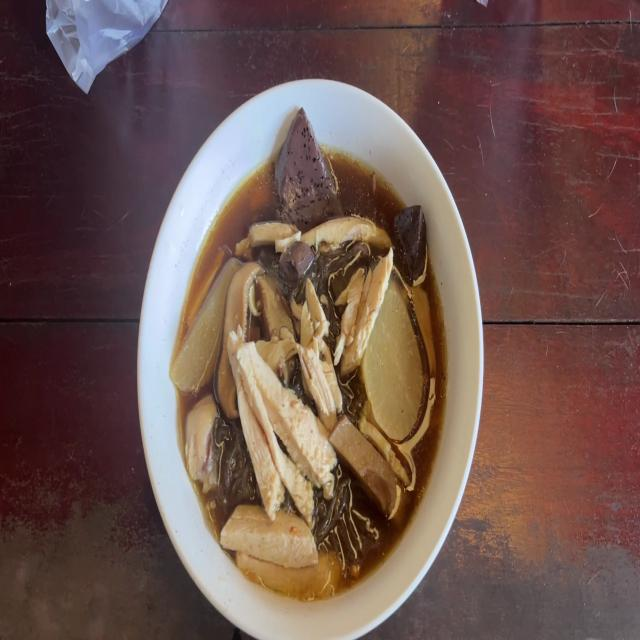noodle: (278, 114, 338, 218), (393, 206, 428, 276), (278, 245, 306, 282)
